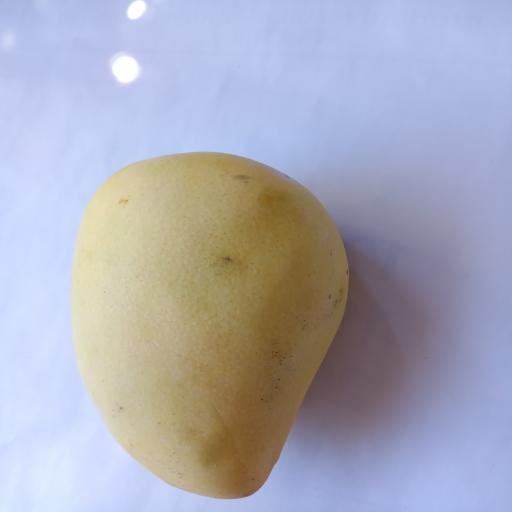mango-ripe: (59, 131, 360, 507)
